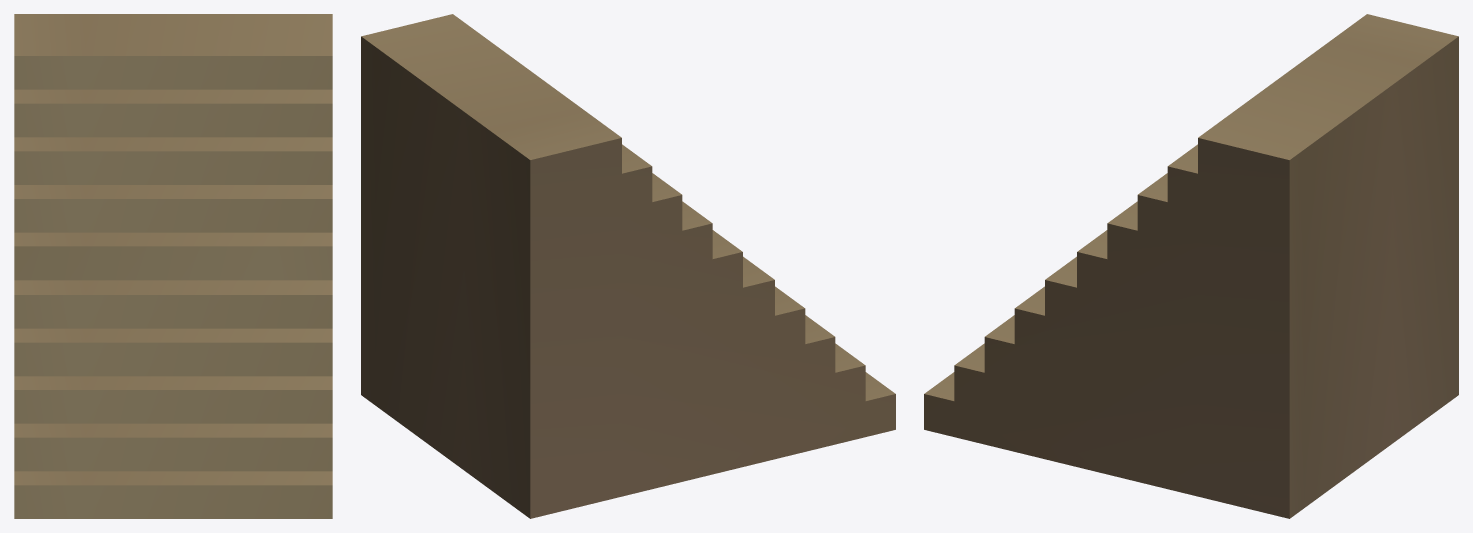
3 views of the same model, side by side, from view 1: azimuth 30°, elevation 25°; view 2: azimuth 150°, elevation 25°; view 3: azimuth 270°, elevation 25° (orthographic). The views are drawn at different scales.
Visible parts, largest first — view 1: stairs_07; view 2: stairs_07; view 3: stairs_07.
Boxes of the visible parts, x1,y1,x2,y2 form: stairs_07: (14,14,332,518); stairs_07: (361,14,895,518); stairs_07: (924,14,1458,518).
Size of the model in its own units: 1.17 by 0.9204 by 1.24.
1 material, 1 textured.
